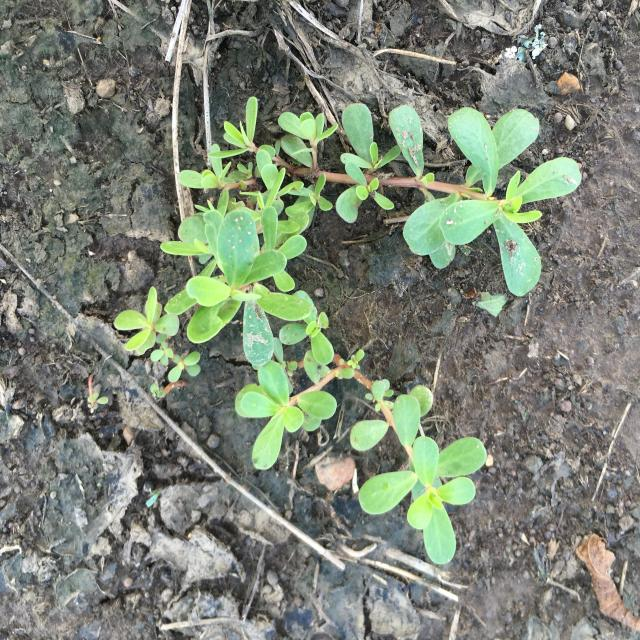Purslane: (115, 97, 582, 400), (235, 343, 487, 564)
